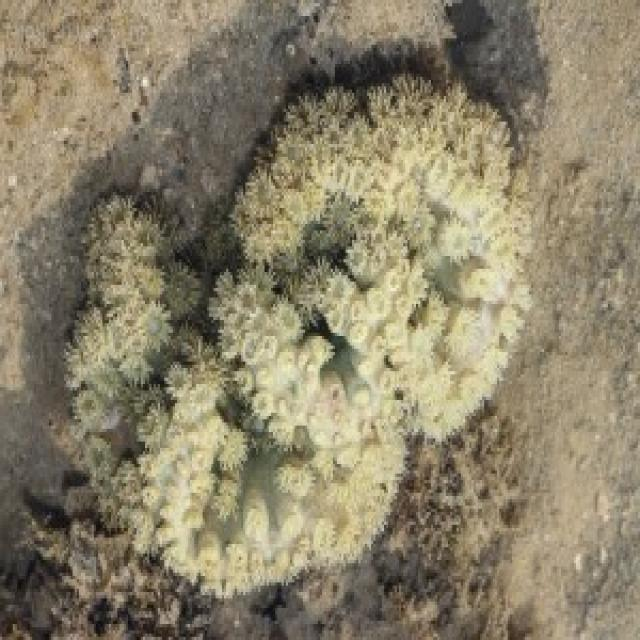Bleached: (68, 80, 527, 595)
Healthy: (382, 419, 545, 640), (1, 491, 199, 640)
